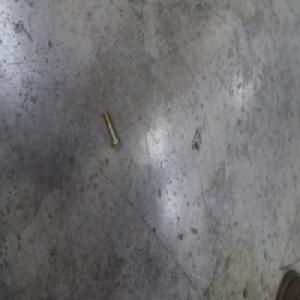Bolt: (102, 107, 120, 148)
